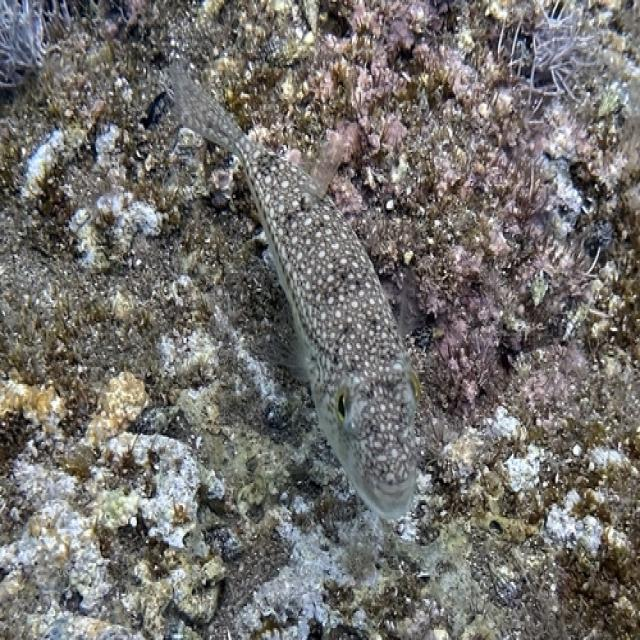Balik: (172, 70, 418, 518)
